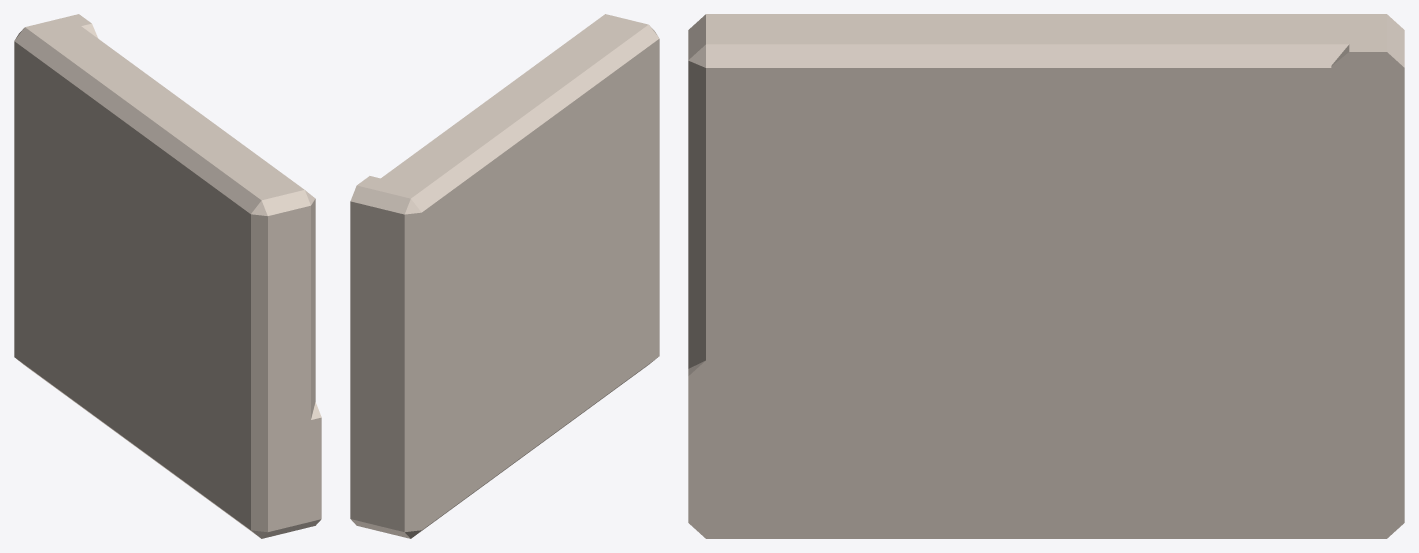
Rendered from Prop_Living_Room_Modular_Couch_End.fbx.
3 renders of one model, left to right at view 1: azimuth 30°, elevation 25°; view 2: azimuth 150°, elevation 25°; view 3: azimuth 270°, elevation 25°, orthographic. The views are drawn at different scales.
Visible parts, largest first — view 1: object1.033; view 2: object1.033; view 3: object1.033.
Part boxes in pixels (x1=…): object1.033: x1=14, y1=14, x2=321, y2=538; object1.033: x1=350, y1=14, x2=659, y2=538; object1.033: x1=688, y1=14, x2=1404, y2=538.
Size of the model in its own units: 15 by 75 by 100.
